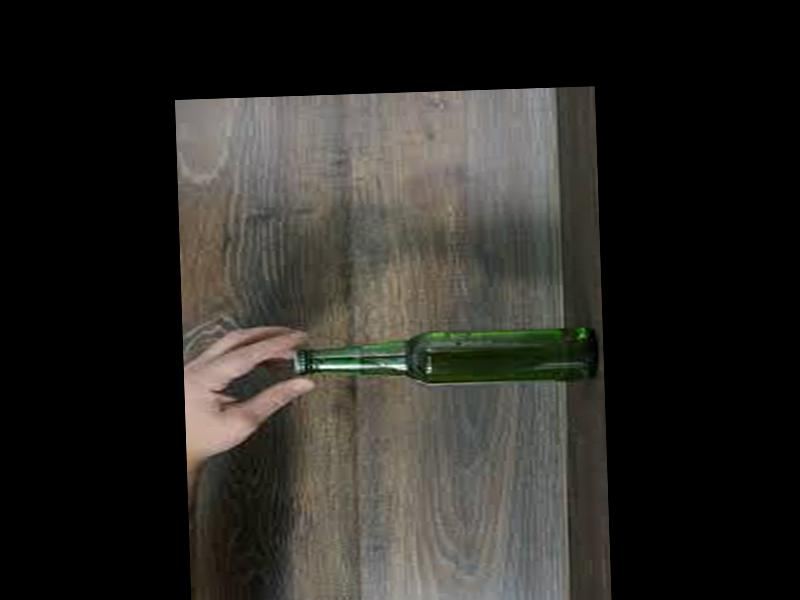Beer: (291, 327, 597, 391)
